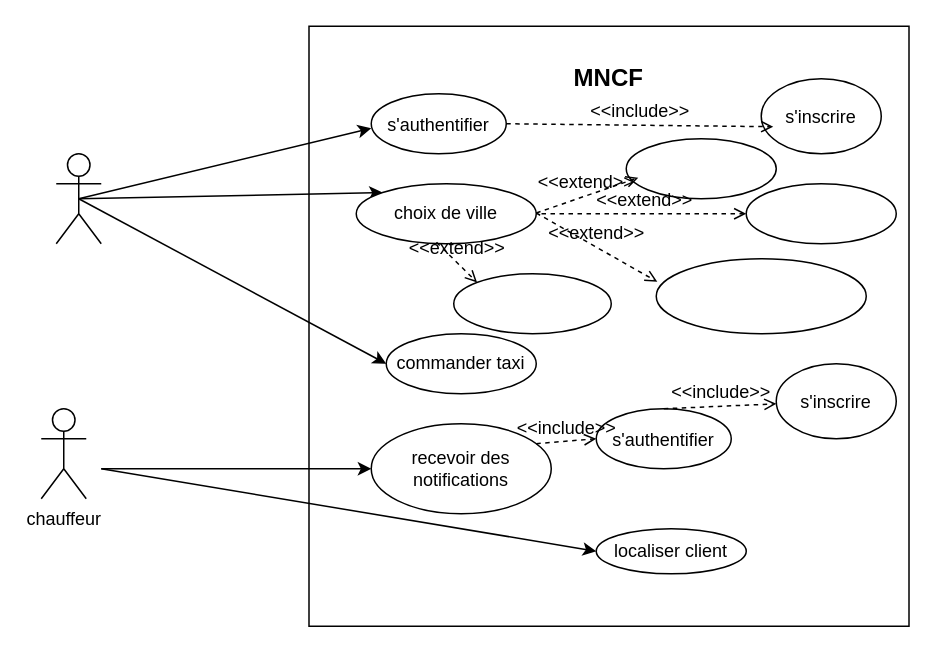
The diagram is 935 pixels wide and 653 high, and some of its shapes have lost their labels. Each missing label, with the box of its shape:
abonnement Bus: (452, 272, 611, 334)
client: (55, 152, 101, 244)
consulter météo: (625, 137, 776, 199)
s'informer sur les lignes des BUS et horaires: (655, 257, 866, 334)
se localiser: (745, 182, 896, 244)
